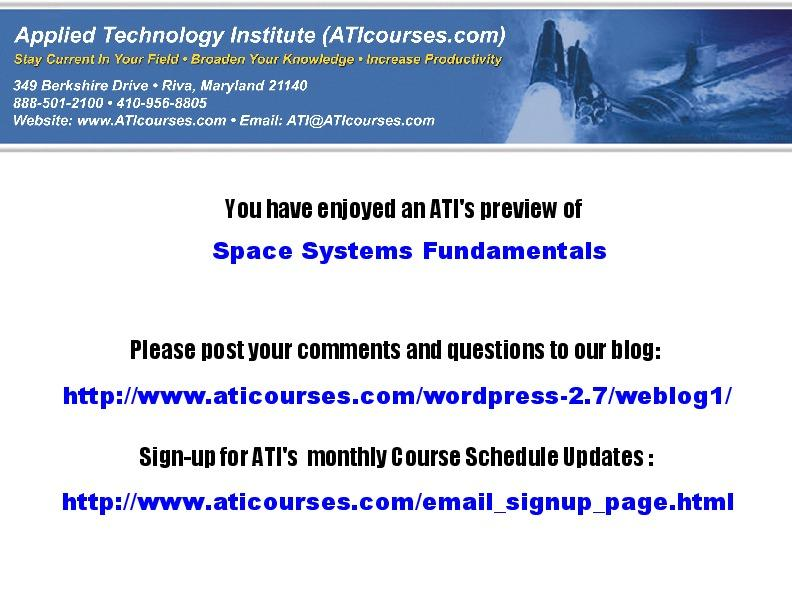title: (200, 222, 649, 284)
